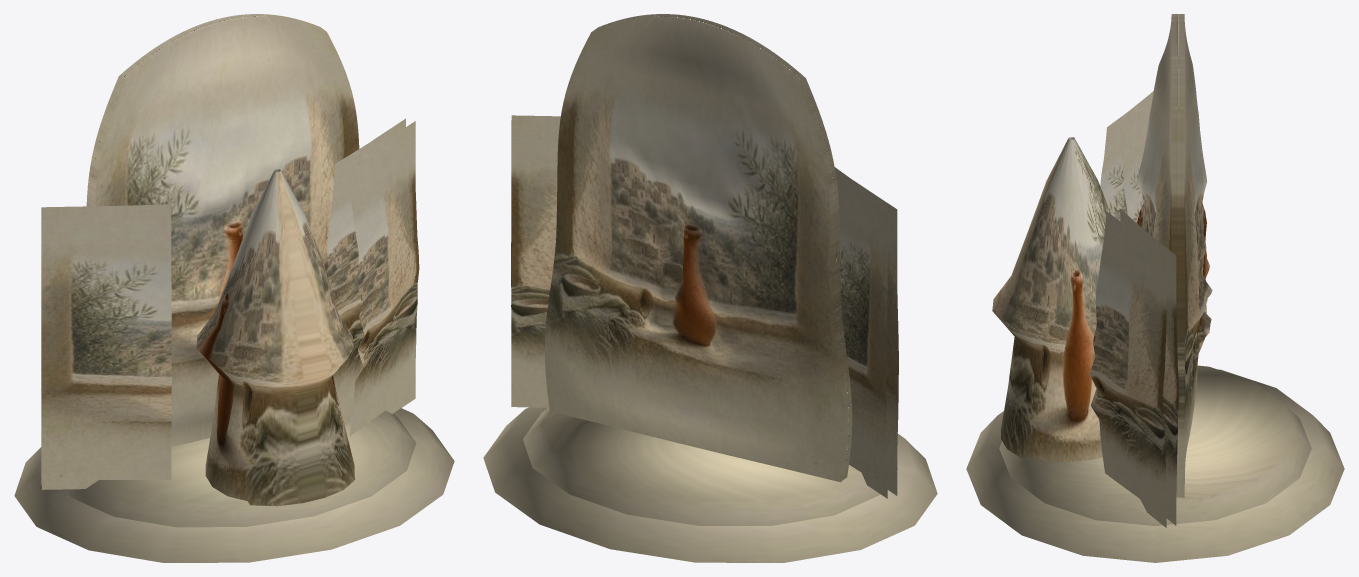
Rendered from psalms-2-15.glb.
3 views of the same model, side by side, from view 1: azimuth 30°, elevation 25°; view 2: azimuth 150°, elevation 25°; view 3: azimuth 270°, elevation 25° (orthographic). The views are drawn at different scales.
Visible parts, largest first — view 1: PaintingSculptureMonument; view 2: PaintingSculptureMonument; view 3: PaintingSculptureMonument.
Boxes of the visible parts, box(x1,y1,x2,y2) form: PaintingSculptureMonument: box(14, 14, 454, 562); PaintingSculptureMonument: box(483, 14, 937, 562); PaintingSculptureMonument: box(966, 14, 1344, 562).
Bounding box in the file's own units: 2.76 × 2.99 × 2.35.
Materials: 1 (1 with a texture image).
